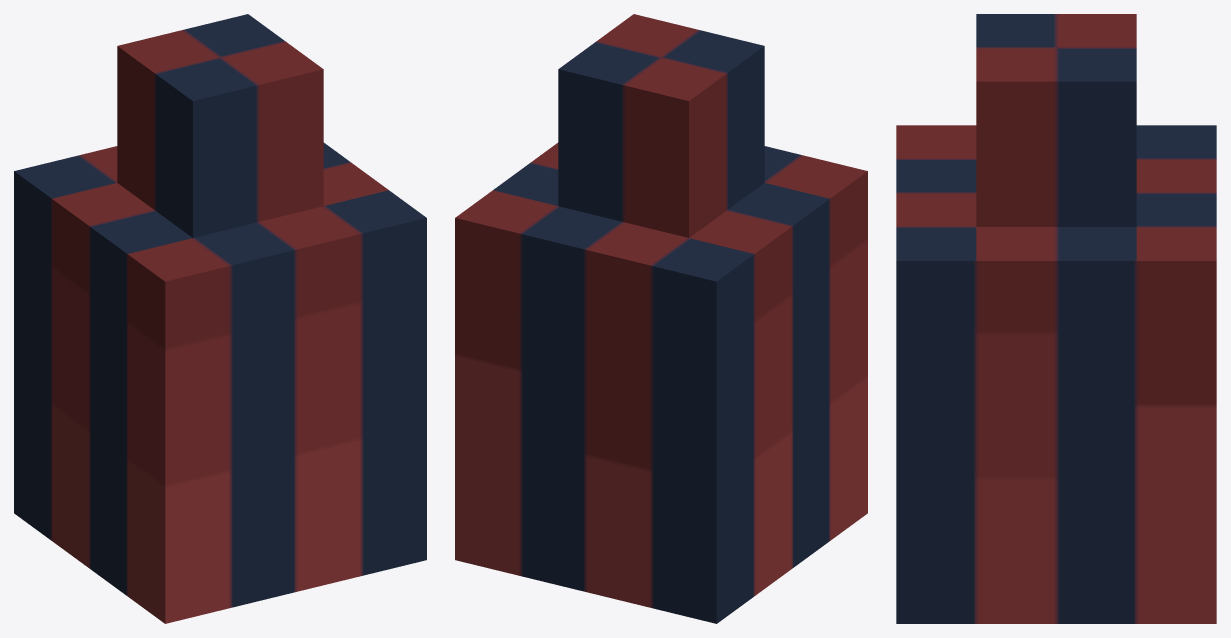
The model's file is Hip039.fbx.
3 renders of one model, left to right at view 1: azimuth 30°, elevation 25°; view 2: azimuth 150°, elevation 25°; view 3: azimuth 270°, elevation 25°, orthographic. The views are drawn at different scales.
Parts seen in each view (by area): view 1: Hip039; view 2: Hip039; view 3: Hip039.
Part boxes in pixels (bbox=[...]): Hip039: bbox=[14, 14, 426, 623]; Hip039: bbox=[455, 14, 867, 623]; Hip039: bbox=[896, 14, 1216, 623].
Size of the model in its own units: 4 by 7 by 4.
